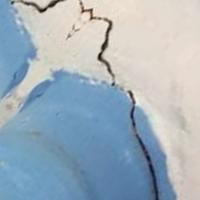crack: (17, 0, 174, 199)
